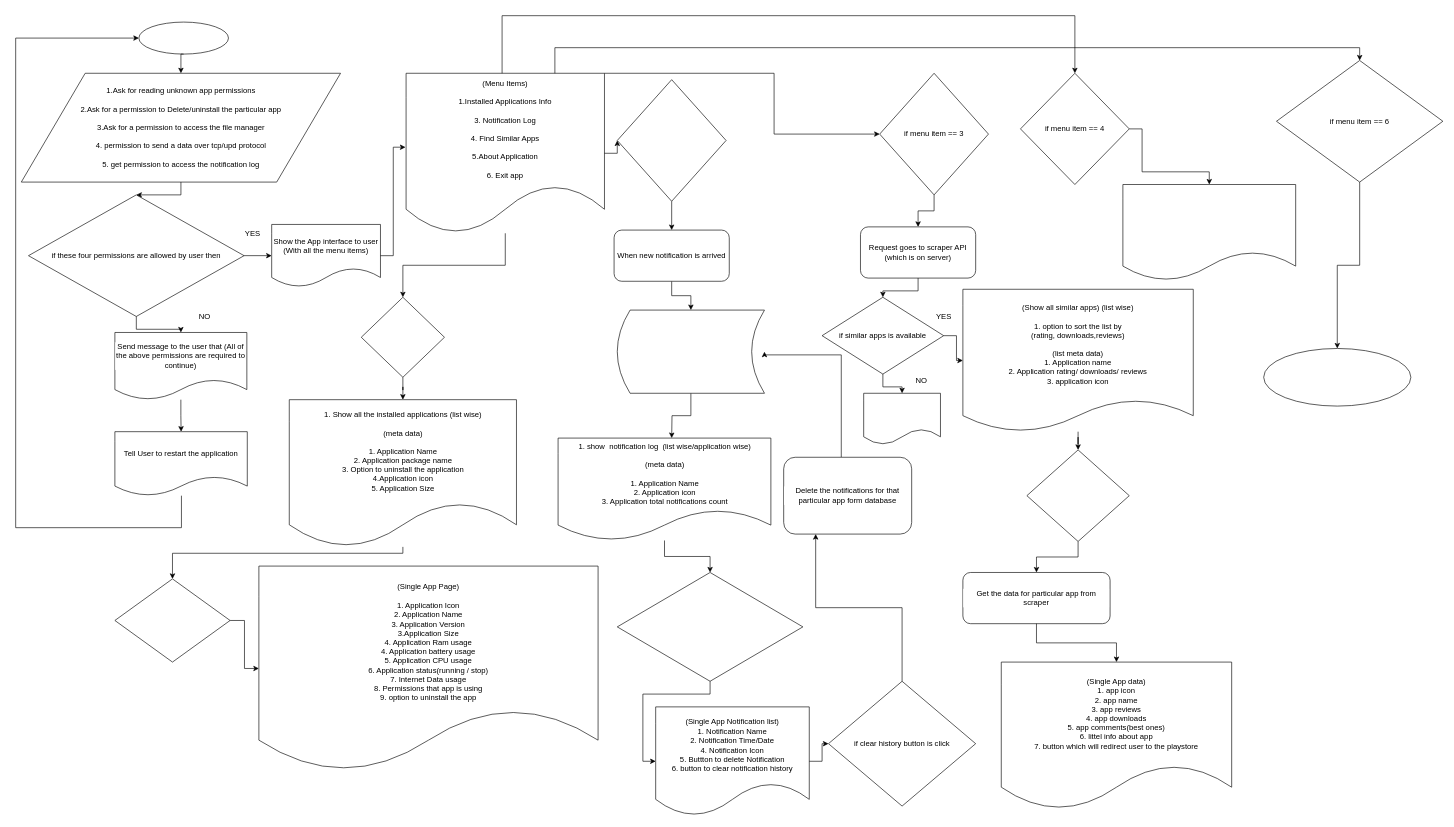
This 1454x827 diagram has some shape labels left out. Here are the shapes that lost their labels. From the top down, the centre of each, then its label:
(x=183, y=37): Start
(x=671, y=140): if menu item == 2
(x=1209, y=232): Display About Application
(x=402, y=337): if menu item == 1
(x=690, y=351): Store notification data in sqlite database
(x=1337, y=377): exit
(x=901, y=418): No Similar app is available
(x=1077, y=495): if particular app is click
(x=172, y=620): isClicked ( Particular App )
(x=710, y=626): isClicked ( Particular App Notification item )
